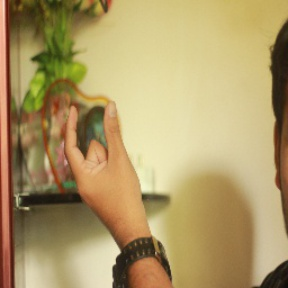U: (60, 92, 144, 216)
